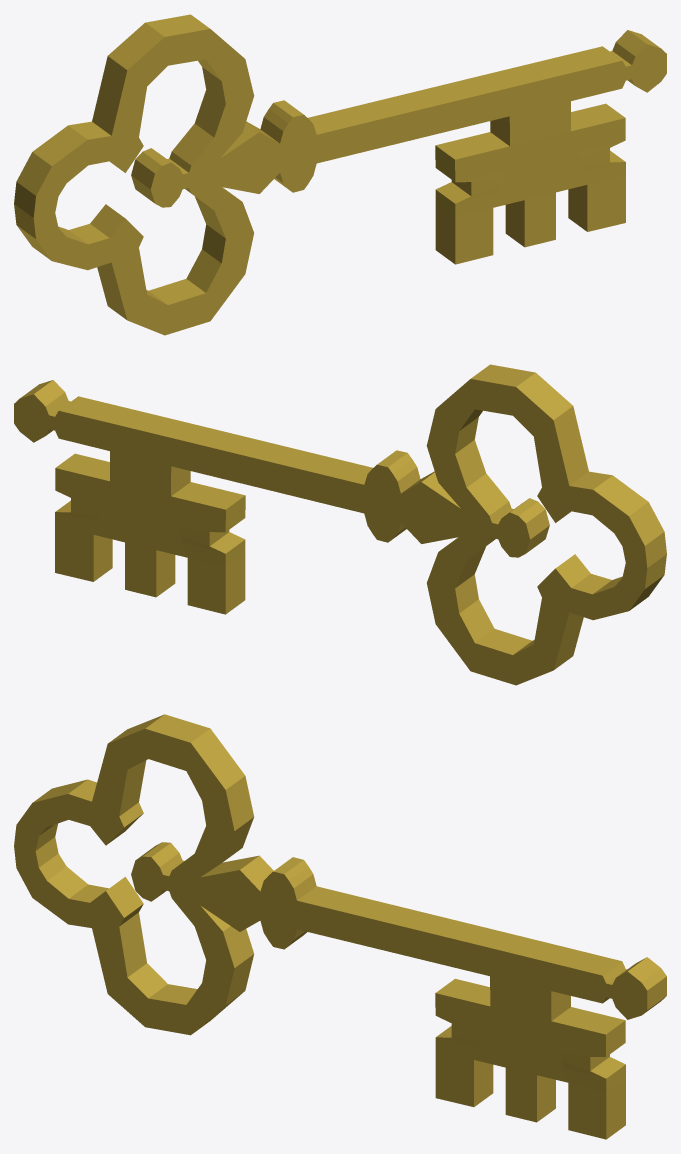
Rendered from quaternius-platformer-key.glb.
3 renders of one model, top to bottom at view 1: azimuth 30°, elevation 25°; view 2: azimuth 150°, elevation 25°; view 3: azimuth 330°, elevation 25°, orthographic.
Parts seen in each view (by area): view 1: Key; view 2: Key; view 3: Key.
Boxes of the visible parts, <box> form: Key: <box>14,14,666,335</box>; Key: <box>14,364,666,685</box>; Key: <box>14,714,666,1139</box>.
Bounding box in the file's own units: 1.02 × 0.4608 × 0.0551.
